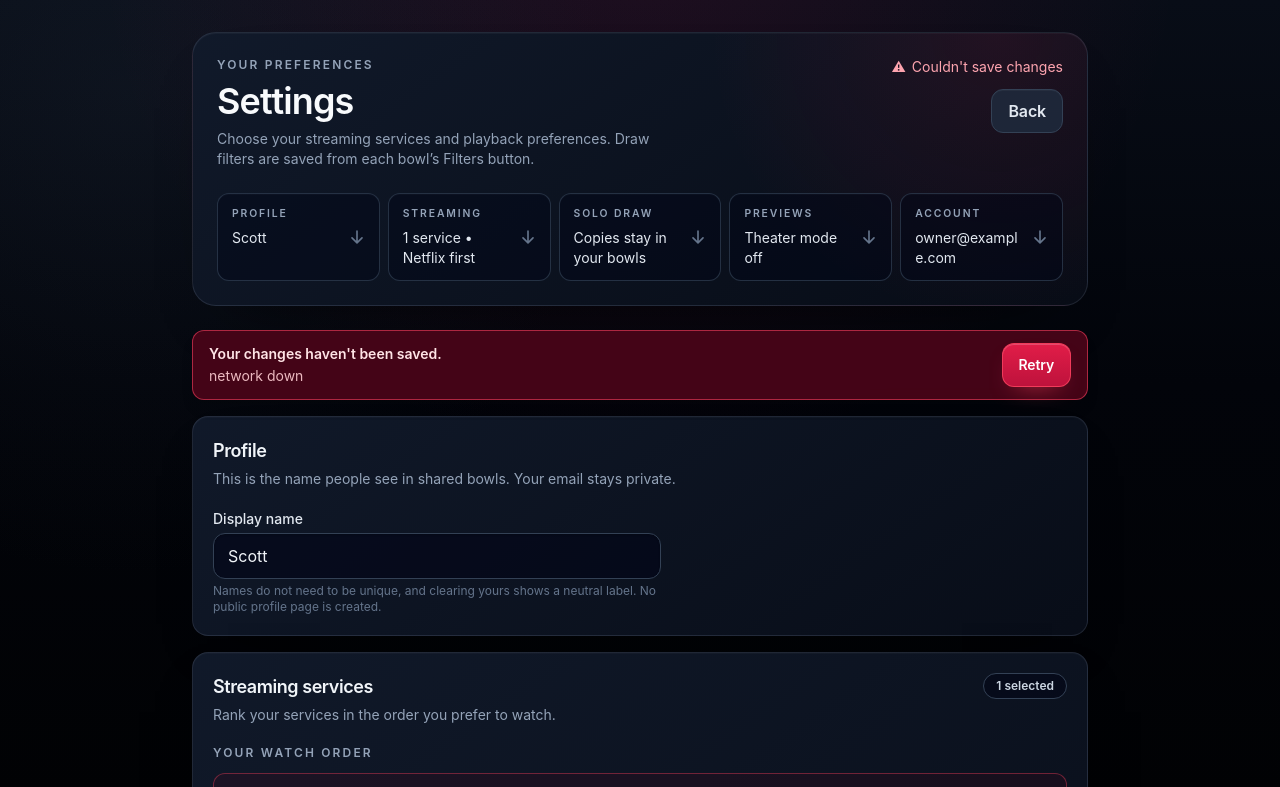
Scenario: UserSettings › surfaces a failed autosave and saves again on retry
The width and height of the screenshot is (1280, 787).
Expected: the message "⚠ Couldn't save changes" is shown, [892,57,1063,77]
Expected: the message "Your changes haven't been saved. network down Retry" is shown, [192,330,1088,400]
Step 1. Click the button "Retry" → (1036, 365), box [1002,343,1071,387]
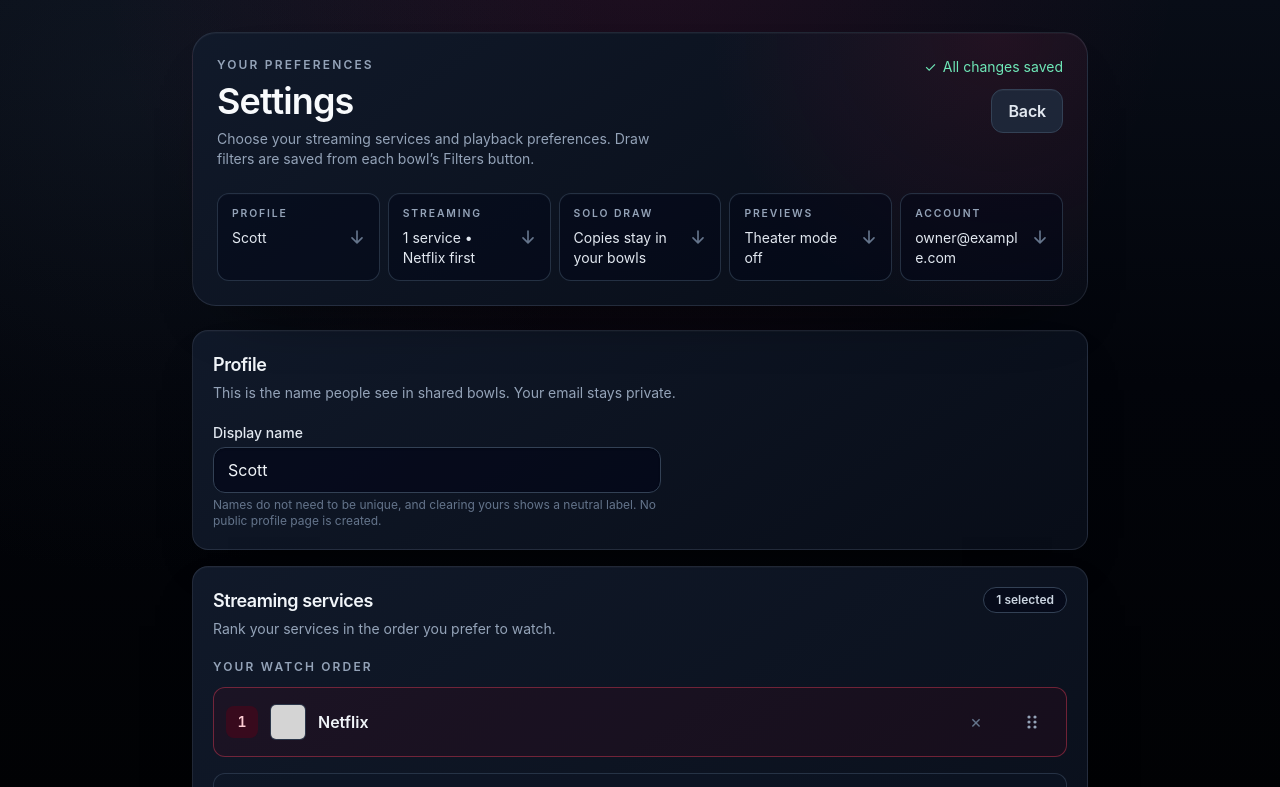
Result: the message shows "All changes saved" at [943,58,1063,75]
Result: the message "Your changes haven't been saved. network down Retry" is gone
